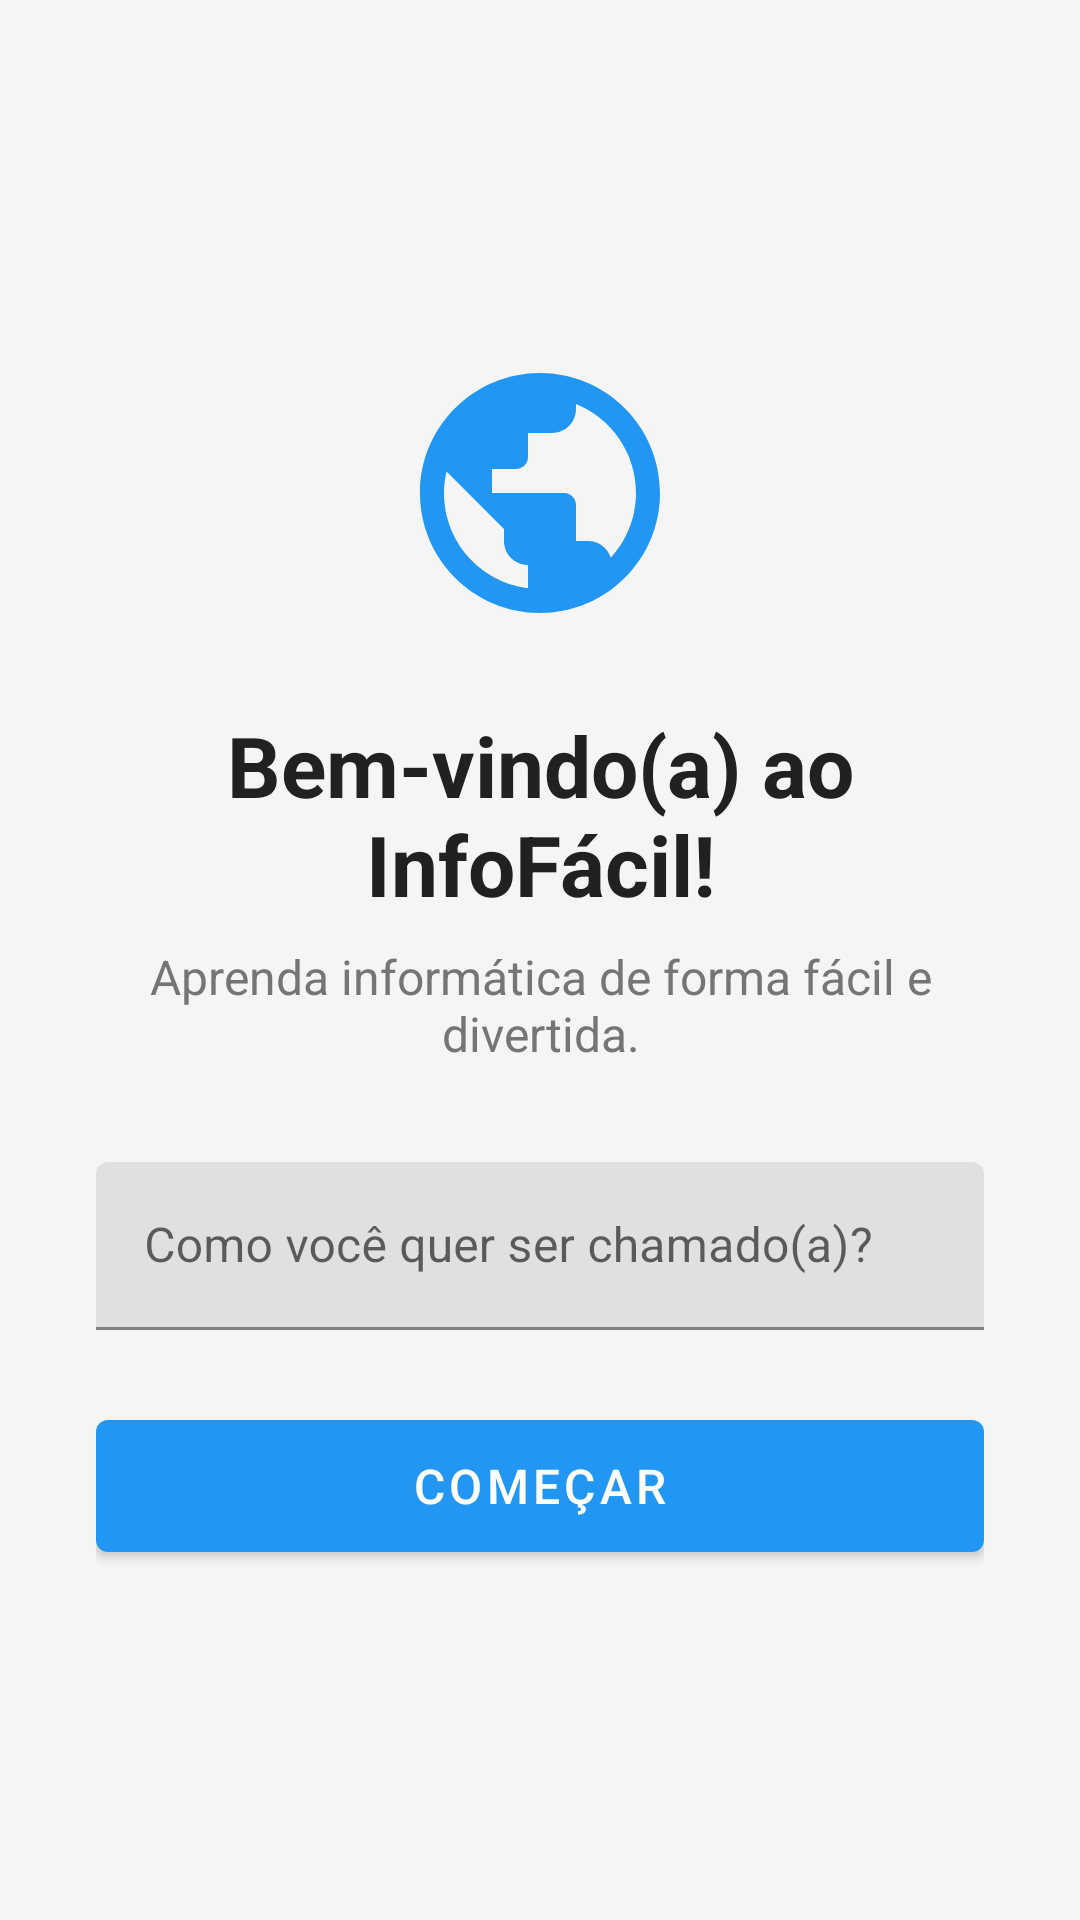

Named icons in this screenshot (1080px×1920px) and their centers, (x=x, y=y):
internet: (x=540, y=493)
